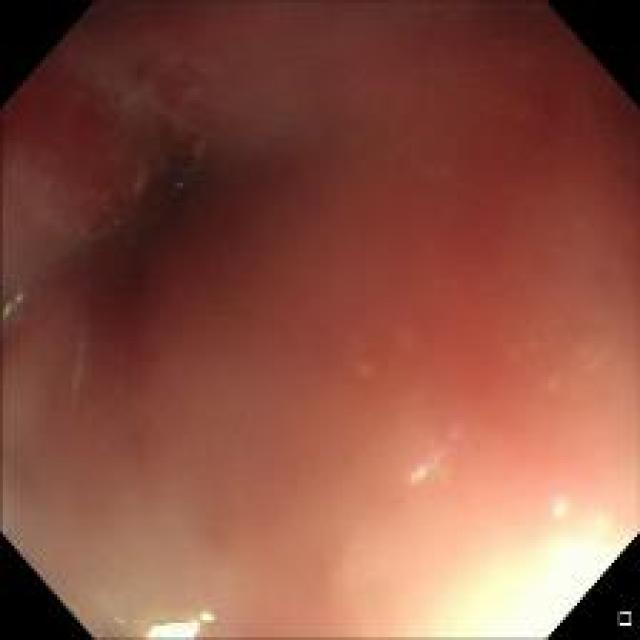color misalignment: (412, 424, 464, 485), (545, 496, 571, 524), (4, 290, 21, 320)
saturation: (461, 530, 632, 635)
specularity: (142, 608, 224, 639)
